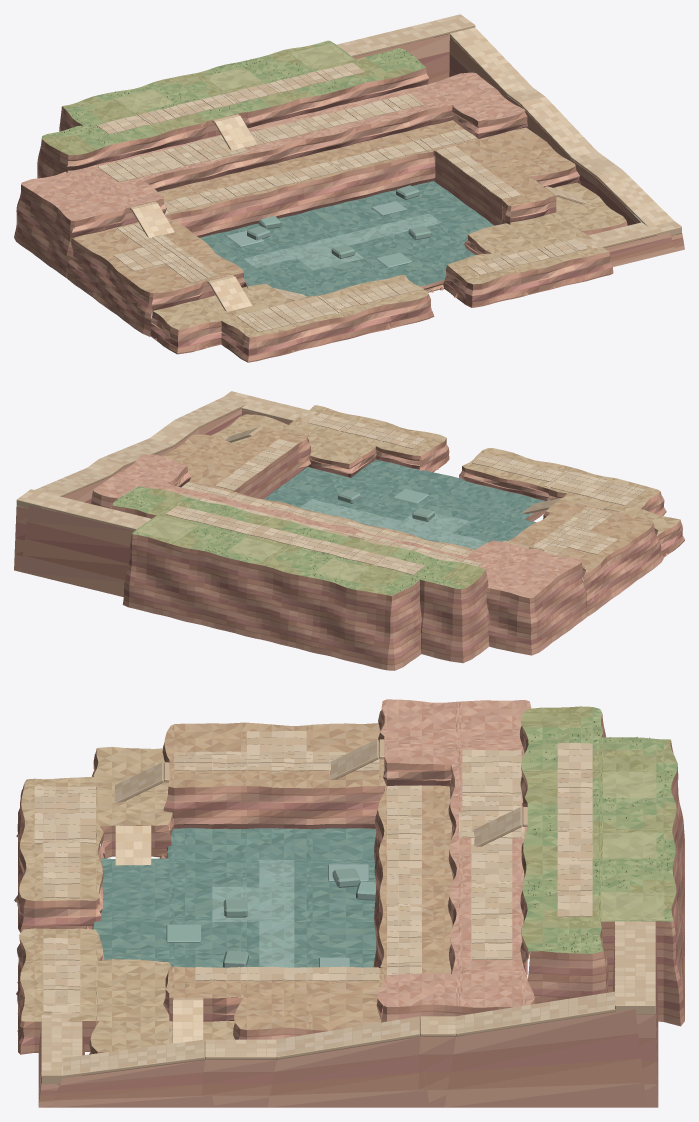
Rendered from terrain_ile_03.glb.
3 renders of one model, top to bottom at view 1: azimuth 30°, elevation 25°; view 2: azimuth 150°, elevation 25°; view 3: azimuth 270°, elevation 25°, orthographic. The views are drawn at different scales.
Visible parts, largest first — view 1: Terrasses et dallages, Falaises stratifiées, Dalles du quai et des rues, Pavage des accès, Digue du canal, Herbe rase et lichens, Canal_PalierJardin, Canal_TronconHaut, Canal_TronconMedian, Canal_TronconBas; view 2: Terrasses et dallages, Falaises stratifiées, Dalles du quai et des rues, Digue du canal, Pavage des accès, Herbe rase et lichens, Canal_PalierJardin; view 3: Terrasses et dallages, Digue du canal, Dalles du quai et des rues, Falaises stratifiées, Pavage des accès, Herbe rase et lichens, Canal_TronconHaut, Canal_TronconMedian, Canal_TronconBas, Canal_PalierJardin, Arase du vieux port.002.
Boxes of the visible parts, x1,y1,x2,y2 form: Terrasses et dallages: (21,40,626,337); Falaises stratifiées: (14,68,627,362); Dalles du quai et des rues: (96,62,588,331); Pavage des accès: (132,14,681,311); Digue du canal: (353,33,684,266); Herbe rase et lichens: (45,42,417,154); Canal_PalierJardin: (340,22,462,57); Canal_TronconHaut: (450,29,527,94); Canal_TronconMedian: (520,99,592,158); Canal_TronconBas: (598,172,670,226); Terrasses et dallages: (93,405,680,598); Falaises stratifiées: (91,437,684,670); Dalles du quai et des rues: (166,413,646,575); Digue du canal: (14,408,291,596); Pavage des accès: (17,391,606,547); Herbe rase et lichens: (117,490,483,593); Canal_PalierJardin: (29,497,150,530); Terrasses et dallages: (19,699,677,1052); Digue du canal: (38,925,658,1107); Dalles du quai et des rues: (34,730,592,1012); Falaises stratifiées: (17,709,684,1054); Pavage des accès: (41,739,655,1074); Herbe rase et lichens: (525,707,673,952); Canal_TronconHaut: (455,993,634,1036); Canal_TronconMedian: (276,1017,419,1059); Canal_TronconBas: (62,1040,204,1077); Canal_PalierJardin: (615,921,655,988); Arase du vieux port.002: (166,924,200,942).
Size of the model in its own units: 77.11 by 11.21 by 65.52.
